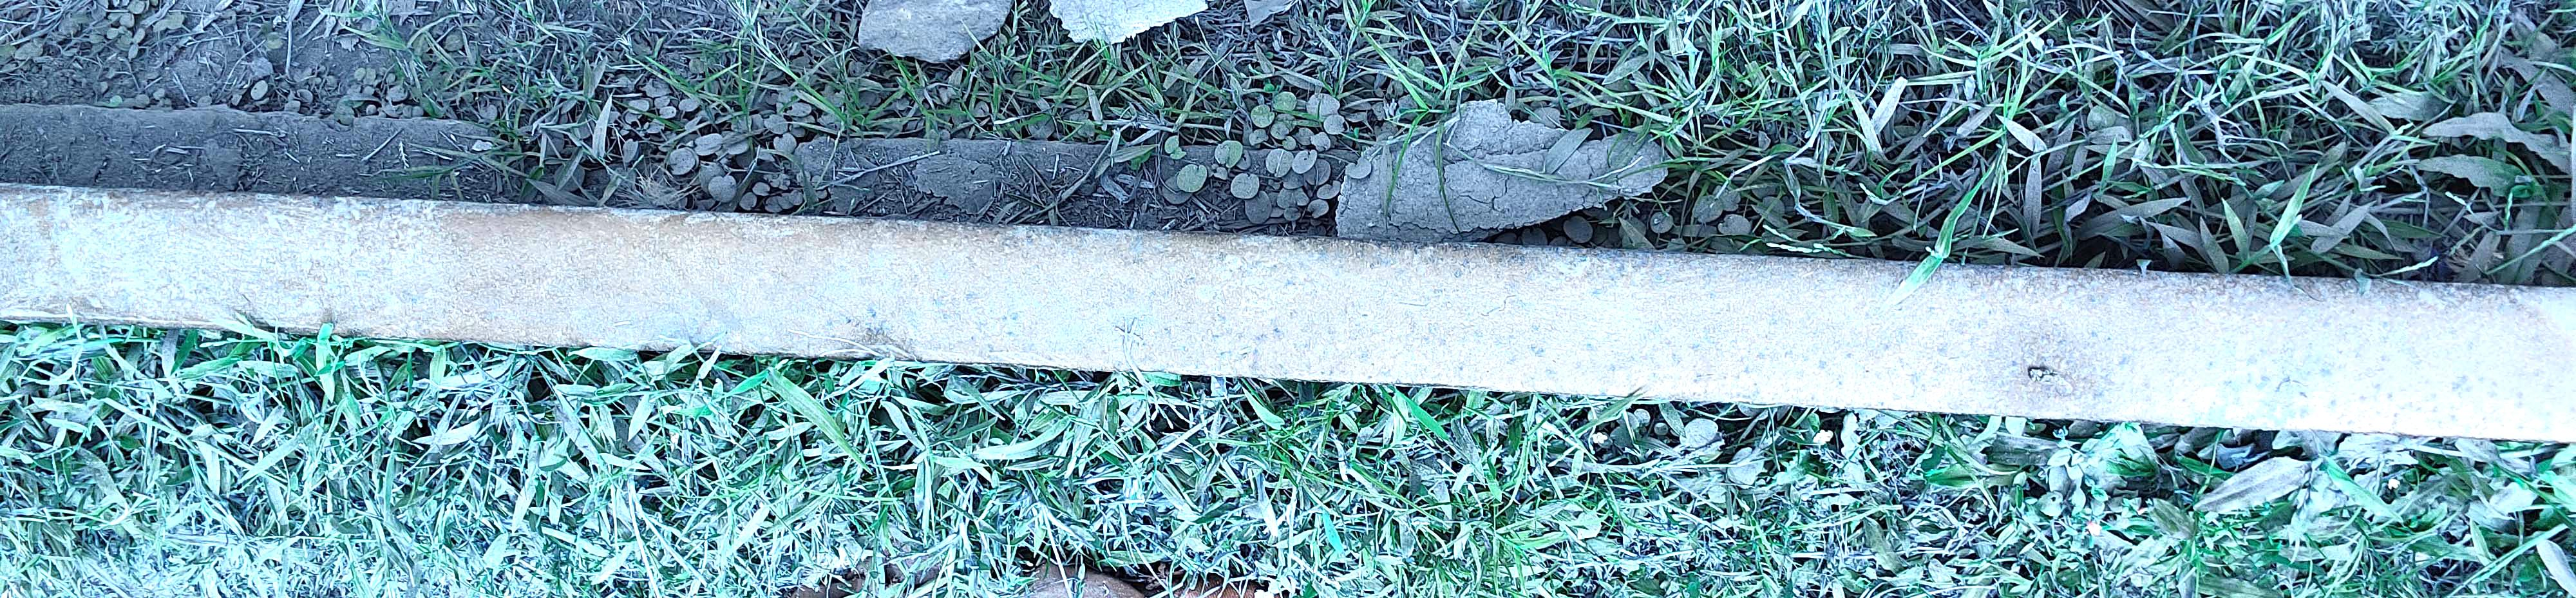error3: (1988, 353, 2157, 432)
